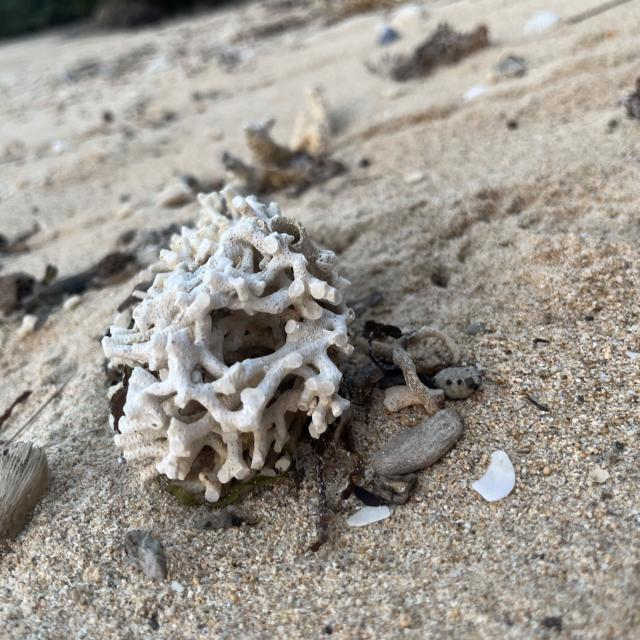coral: (79, 188, 359, 502)
